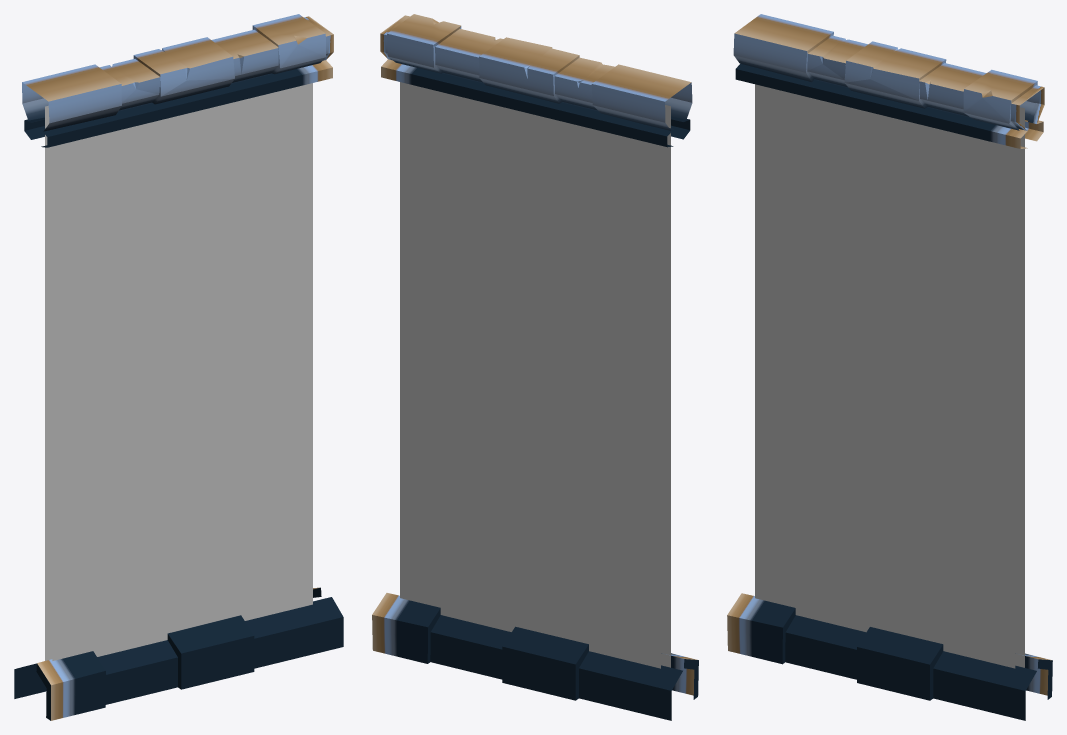
The model's file is wall_14.fbx.
3 renders of one model, left to right at view 1: azimuth 30°, elevation 25°; view 2: azimuth 150°, elevation 25°; view 3: azimuth 330°, elevation 25°, orthographic.
Visible parts, largest first — view 1: polySurface25; view 2: polySurface25; view 3: polySurface25.
Boxes of the visible parts, <box> form: polySurface25: <box>14,14,343,720</box>; polySurface25: <box>372,14,698,720</box>; polySurface25: <box>727,14,1052,720</box>.
Bounding box in the file's own units: 208 × 408 × 42.26.
